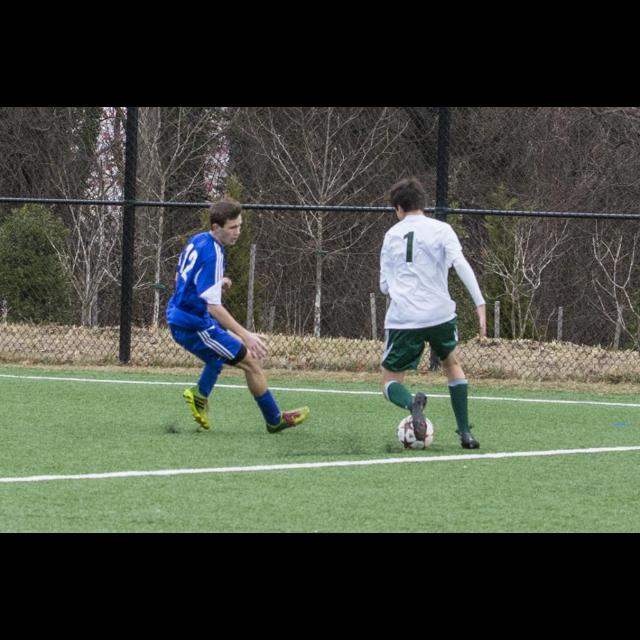Football: (395, 414, 435, 446)
